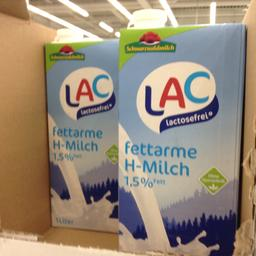milk: (118, 9, 246, 254), (42, 26, 119, 236)
